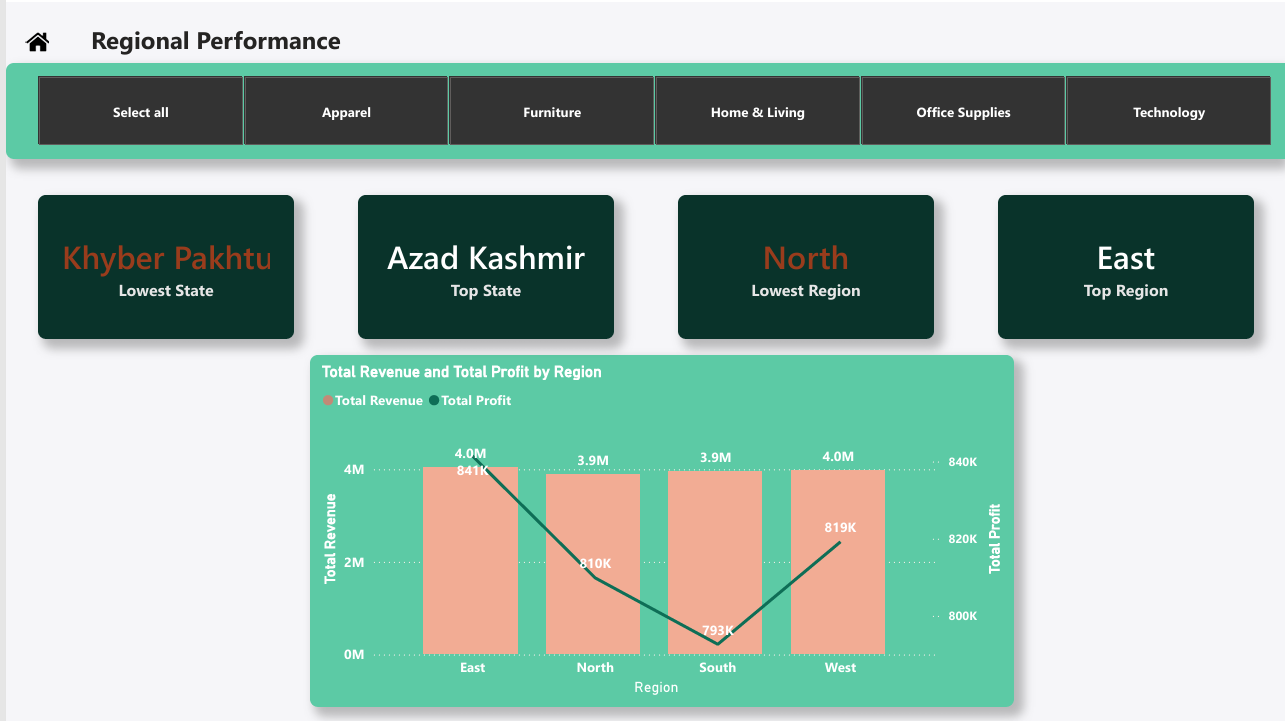

The page's visual inventory and layout, read from the dashboard file:
{"tool":"powerbi","page":{"name":"Regional Performance","canvas":[1280,720],"ordinal":5},"visuals":[{"type":"image","box":[20,15,24,48],"z":0,"group":"g1"},{"type":"slicer","fields":{"Values":["sales_revenue_dataset.Category"]},"box":[0,60,1296,96],"z":0},{"type":"textbox","box":[80,15,432,72],"z":1000,"group":"g1"},{"type":"cardVisual","fields":{"Data":["sales_revenue_dataset.Lowest Region"]},"box":[672,192,256,144],"z":1000},{"type":"cardVisual","fields":{"Data":["sales_revenue_dataset.Top Region"]},"box":[992,192,256,144],"z":2000},{"type":"group","id":"g1","title":"Group 1","box":[20,15,492,72],"z":3000},{"type":"lineClusteredColumnComboChart","fields":{"Category":["sales_revenue_dataset.Region","sales_revenue_dataset.State"],"Y":["sales_revenue_dataset.Total Revenue"],"Y2":["sales_revenue_dataset.Total Profit"]},"box":[304,352,704,352],"z":4000},{"type":"cardVisual","fields":{"Data":["sales_revenue_dataset.Top State"]},"box":[352,192,256,144],"z":5000},{"type":"cardVisual","fields":{"Data":["sales_revenue_dataset.Lowest State"]},"box":[32,192,256,144],"z":6000}]}

Visuals, with their boxes in screenshot pixels (x1, y1, x2, y2), scaled from the page's 1280x720 canvas onto the 1285x721 screenshot:
image: box=[20, 15, 44, 63]
slicer - sales_revenue_dataset.Category: box=[0, 60, 1284, 156]
textbox: box=[80, 15, 514, 87]
cardVisual - sales_revenue_dataset.Lowest Region: box=[675, 192, 932, 336]
cardVisual - sales_revenue_dataset.Top Region: box=[996, 192, 1253, 336]
"Group 1" group: box=[20, 15, 514, 87]
lineClusteredColumnComboChart - sales_revenue_dataset.Region x sales_revenue_dataset.State: box=[305, 352, 1012, 705]
cardVisual - sales_revenue_dataset.Top State: box=[353, 192, 610, 336]
cardVisual - sales_revenue_dataset.Lowest State: box=[32, 192, 289, 336]
